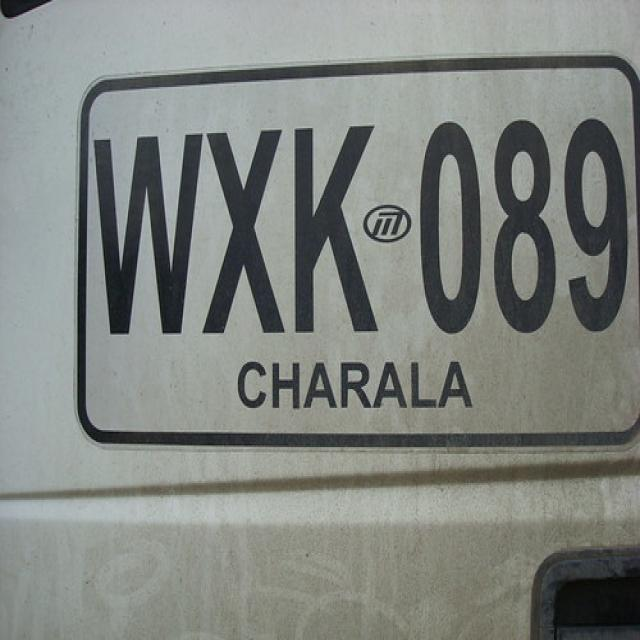placas: (91, 105, 634, 350)
